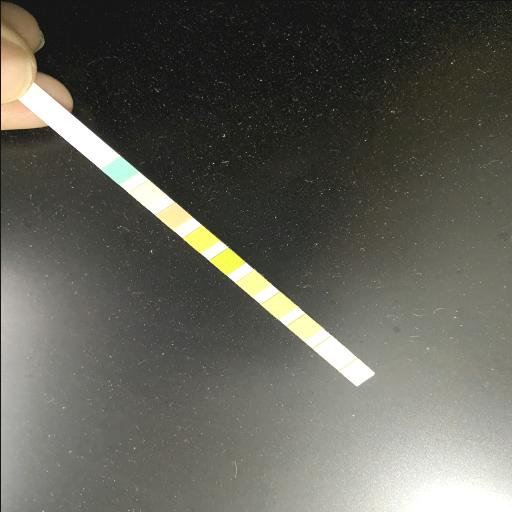Bilirubin: (137, 186, 158, 200)
Blood: (216, 254, 236, 268)
Glucose: (109, 163, 129, 177)
Ketone: (164, 209, 184, 223)
Leukocytes: (346, 366, 366, 378)
Nitrite: (321, 342, 339, 356)
Protein: (268, 300, 288, 312)
SpGravity: (192, 232, 210, 246)
Urobilinogen: (296, 320, 314, 334)
pH: (242, 276, 262, 290)
strip: (18, 81, 374, 385)
